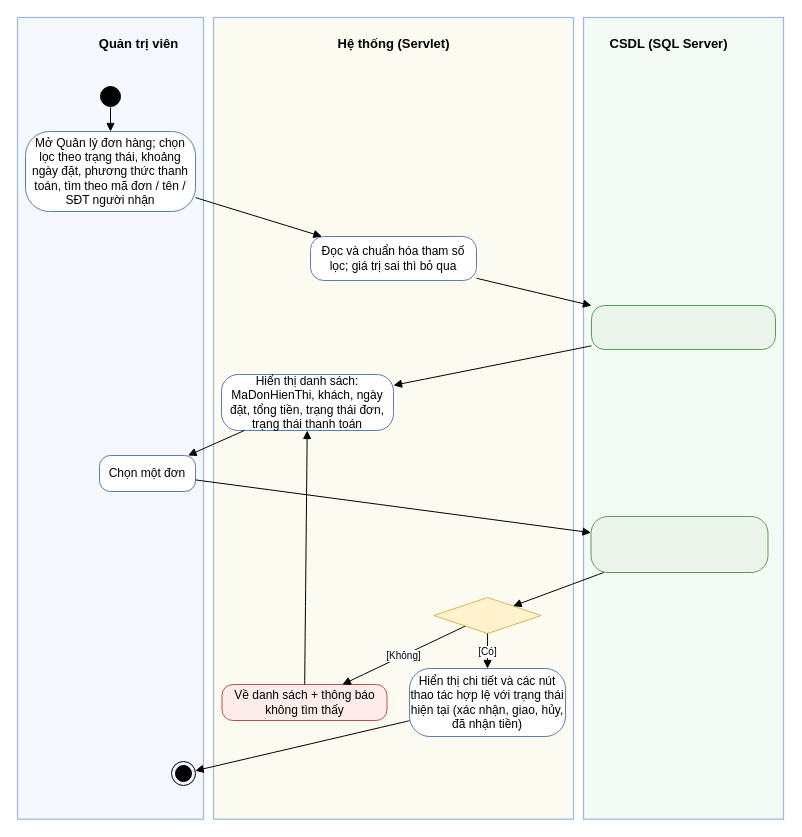
This 802x837 diagram has some shape labels left out. Here are the shapes that lost their labels. From the top down, the box of each, then its label:
(590, 304, 776, 350): COUNT + SELECT DonHang ... ORDER BY NgayTao DESC OFFSET/FETCH 10 dòng
(590, 516, 768, 572): SELECT DonHang + ChiTietDonHang + LichSuTrangThaiDon + thông tin khách
(433, 596, 541, 634): Đơn tồn tại?
